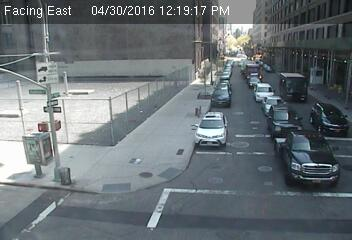neg: (136, 156, 167, 196), (174, 174, 204, 213), (193, 107, 220, 143), (31, 137, 57, 172), (131, 102, 157, 137), (173, 61, 198, 93), (287, 73, 310, 104), (96, 93, 119, 123), (259, 24, 282, 54), (47, 194, 70, 224), (246, 178, 267, 205), (36, 49, 55, 74), (221, 73, 238, 97), (106, 49, 123, 72), (276, 118, 291, 139), (67, 166, 81, 186), (177, 26, 191, 46), (113, 192, 127, 211), (293, 145, 305, 161)
